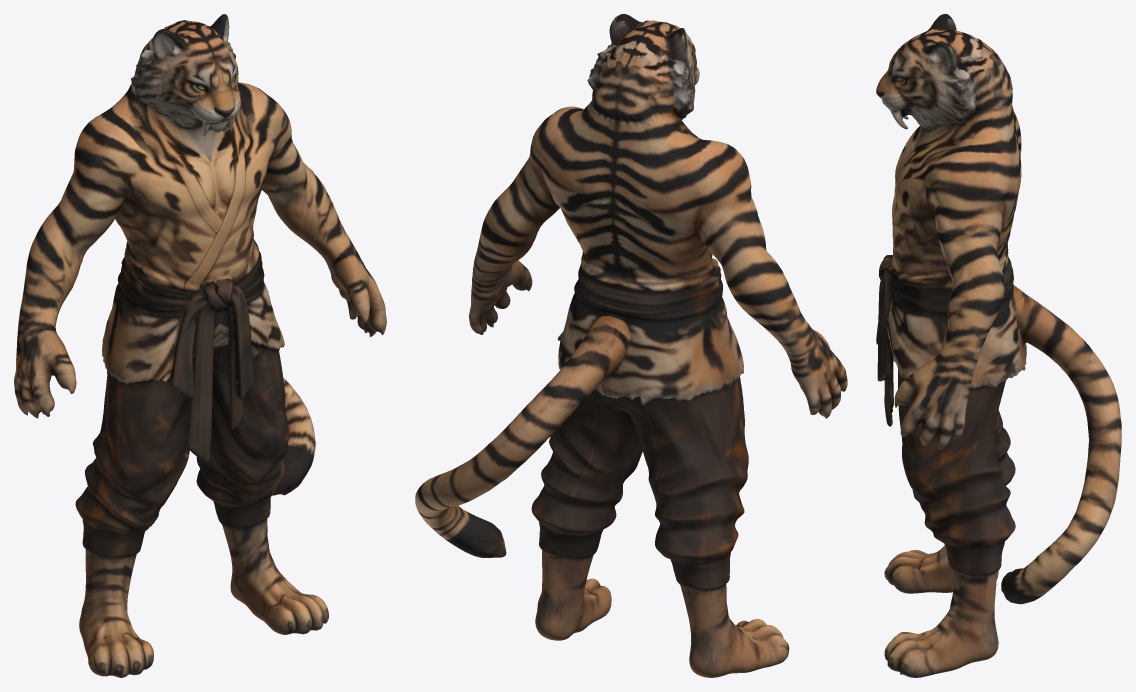
The model's file is BORYN.glb.
3 renders of one model, left to right at view 1: azimuth 30°, elevation 25°; view 2: azimuth 150°, elevation 25°; view 3: azimuth 270°, elevation 25°, orthographic. The views are drawn at different scales.
Bounding box in the file's own units: 1.21 × 2 × 0.7441.
Materials: 1 (1 with a texture image).
